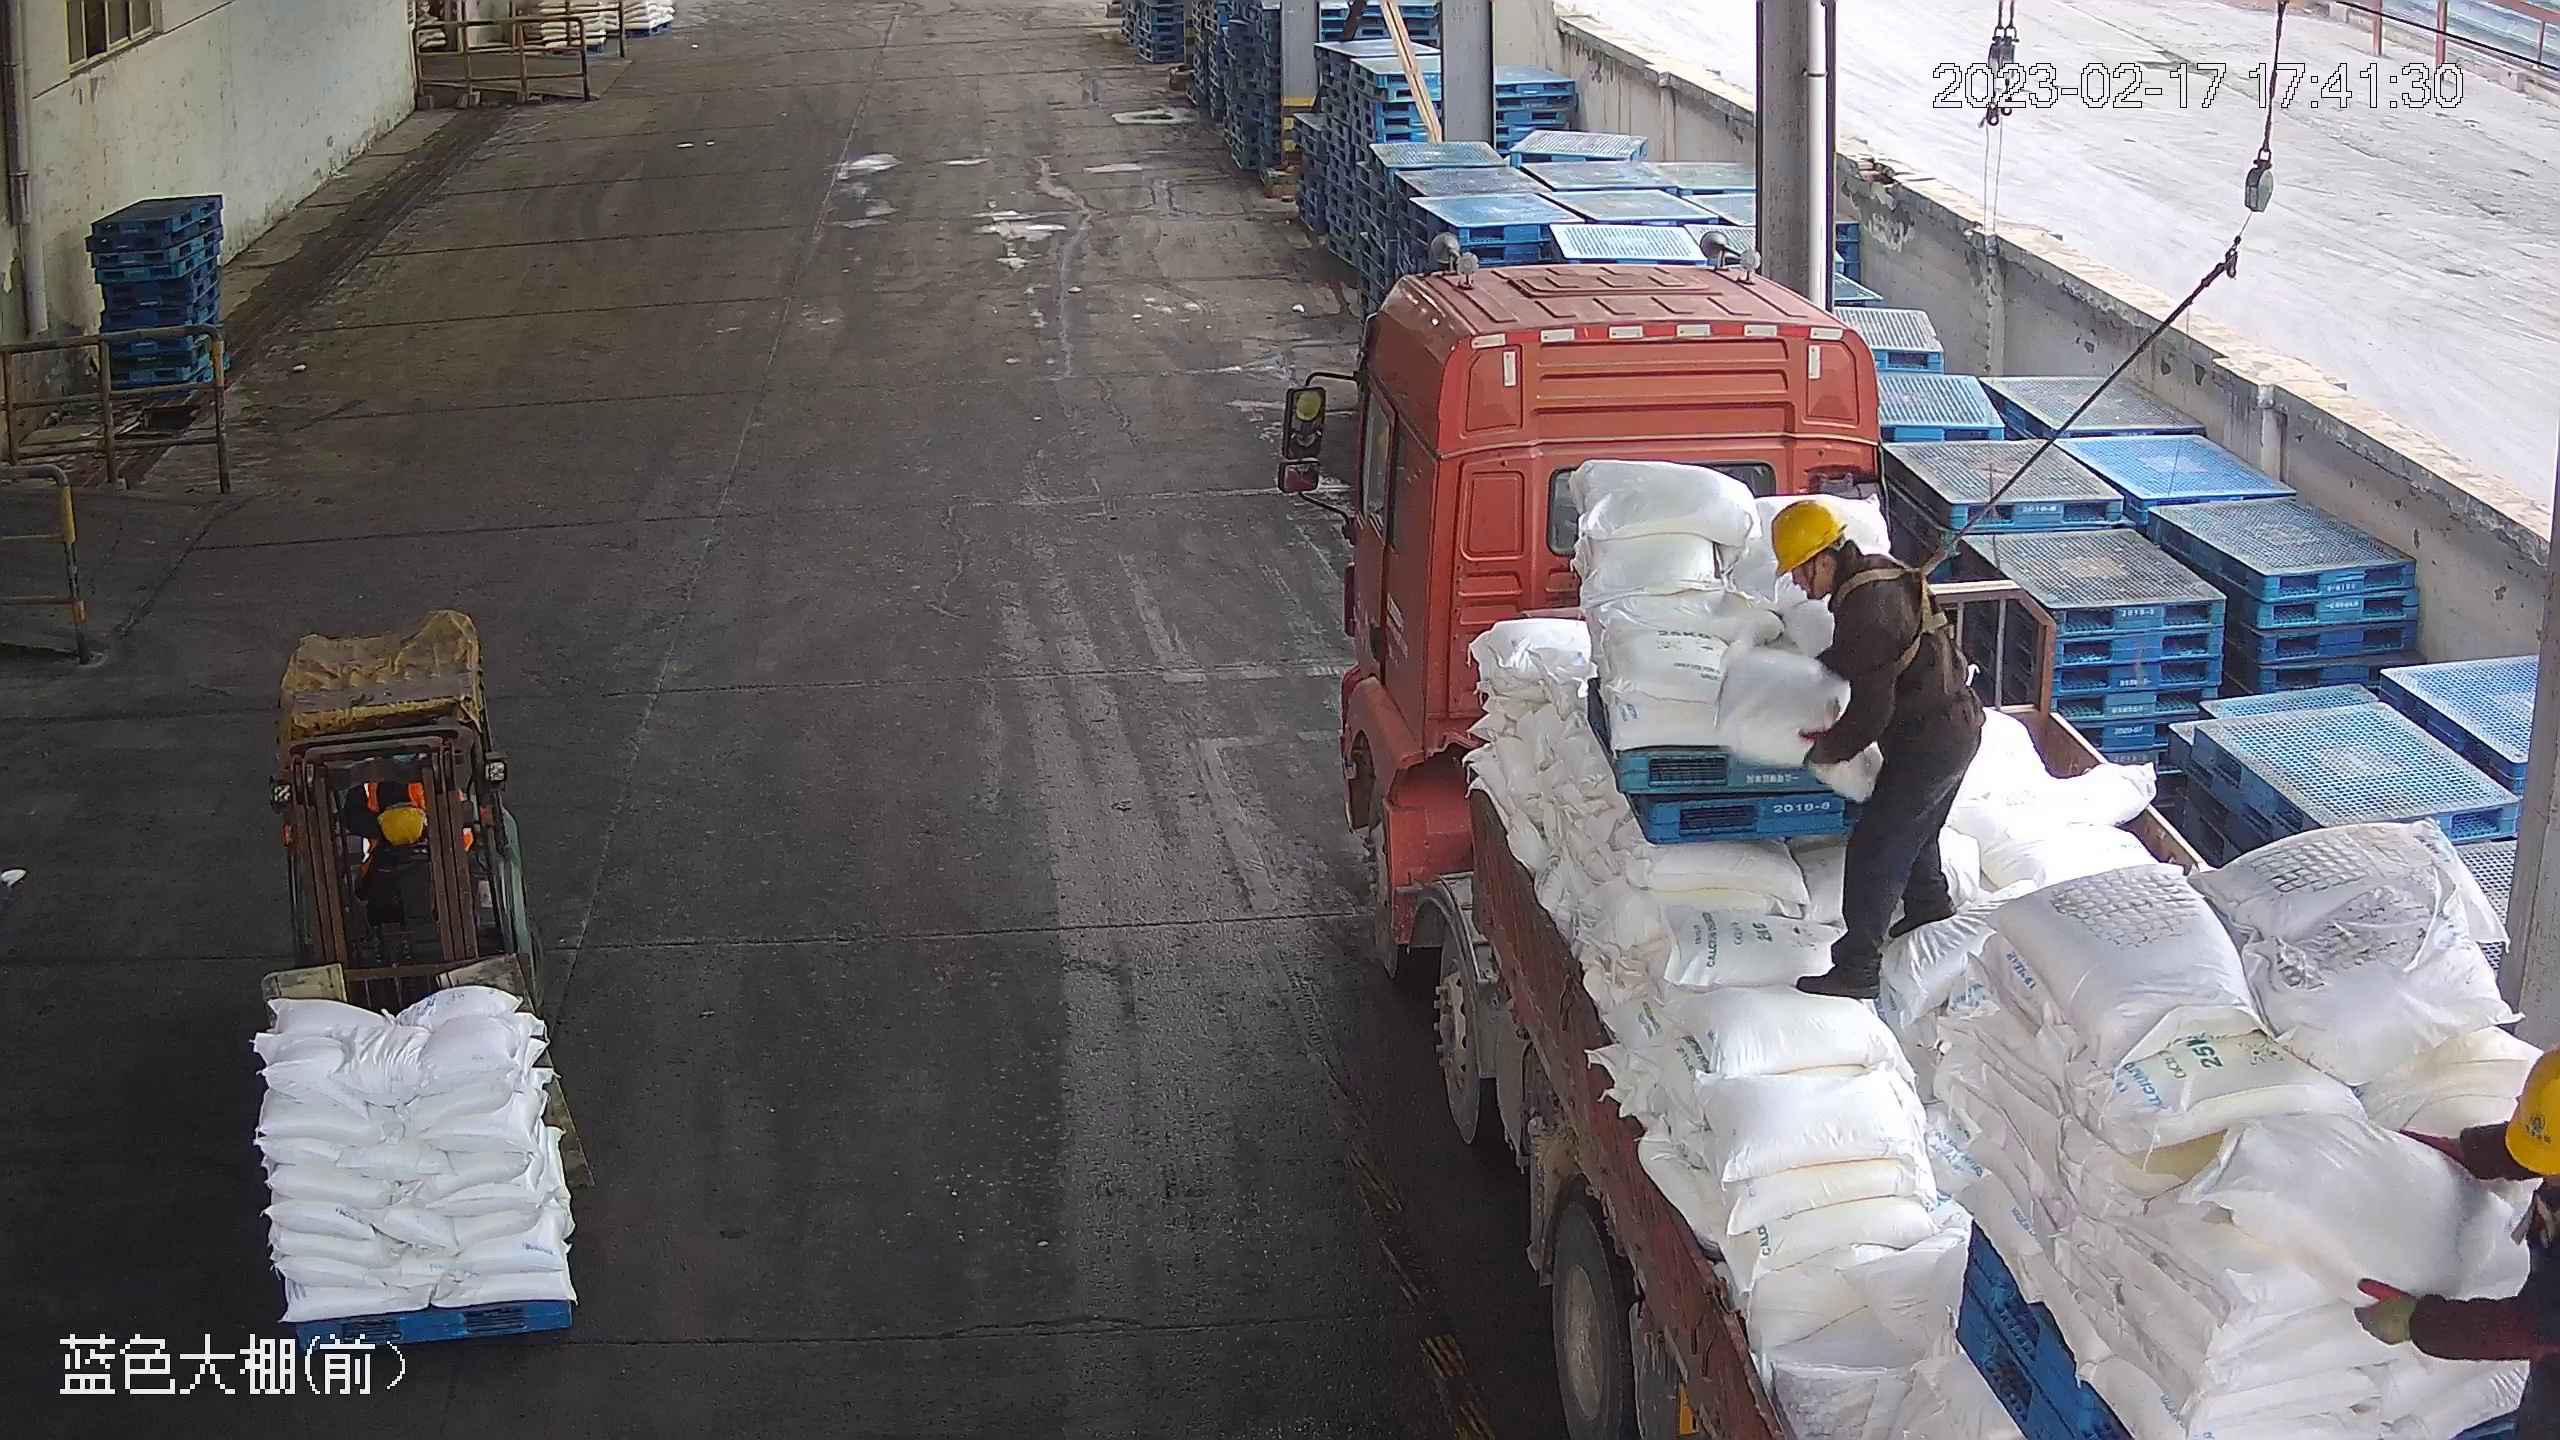belt: (1849, 540, 1962, 670)
head: (2400, 1042, 2560, 1335), (1768, 496, 1936, 663)
helmet: (2506, 1038, 2560, 1175), (1769, 497, 1846, 575)
people: (1770, 497, 1985, 999)
truck: (1266, 261, 2545, 1415)
